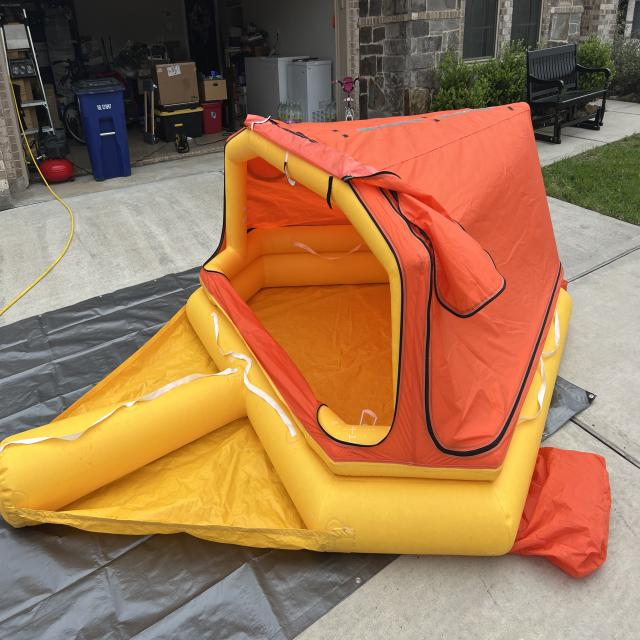Multi-person_life_raft: (0, 100, 612, 580)
